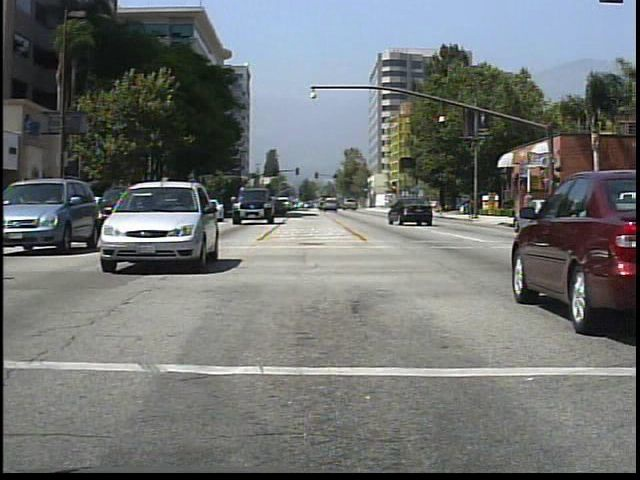person: (565, 190, 586, 235), (520, 191, 537, 229)
